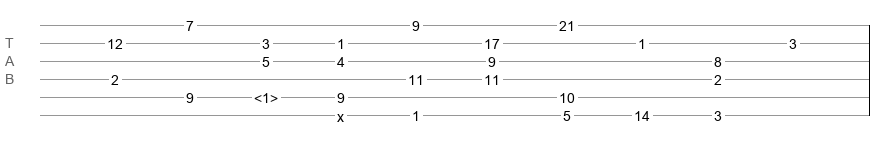1: (337, 36, 345, 46), (412, 108, 420, 118), (638, 36, 646, 46)
10: (559, 90, 575, 100)
11: (408, 72, 424, 82), (484, 72, 500, 82)
12: (107, 36, 123, 46)
14: (634, 108, 650, 118)
17: (484, 36, 500, 46)
2: (111, 72, 119, 82), (714, 72, 722, 82)
21: (559, 18, 575, 28)
3: (262, 36, 270, 46), (714, 108, 722, 118), (789, 36, 797, 46)
4: (337, 54, 345, 64)
5: (262, 54, 270, 64), (563, 108, 571, 118)
7: (186, 18, 194, 28)
8: (714, 54, 722, 64)
9: (186, 90, 194, 100), (337, 90, 345, 100), (412, 18, 420, 28), (488, 54, 496, 64)
harmonic: (254, 90, 278, 100)
x: (337, 109, 344, 117)
